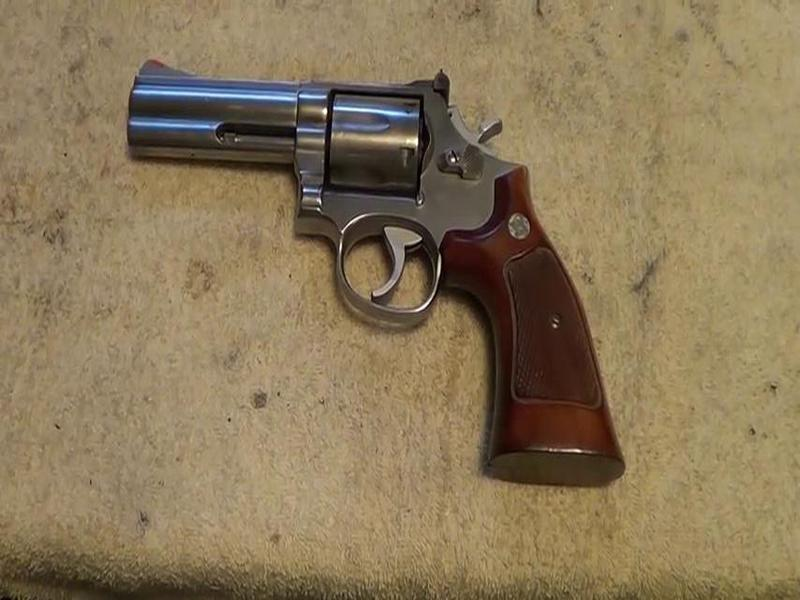Revolver: (97, 36, 687, 531)
